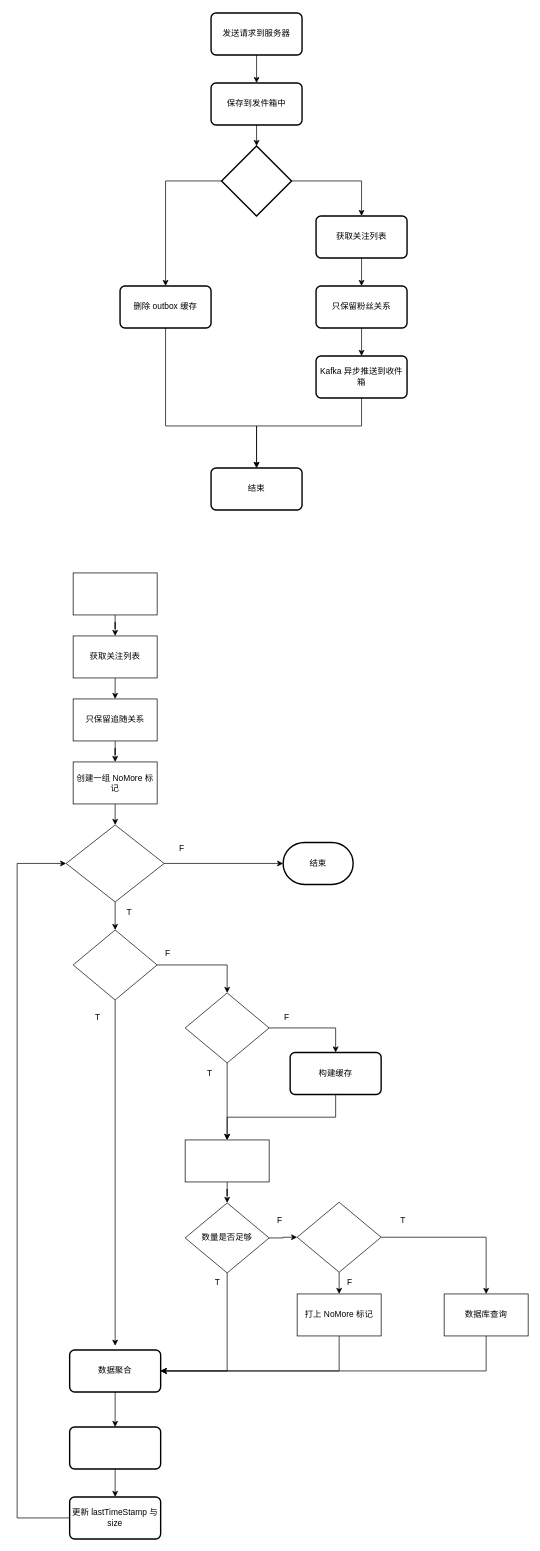
This 540x1551 diagram has some shape labels left out. The centre of each missing label's shape, as x and y in pixels:
"剔除掉具有删除标记的帖子" goes at (x=115, y=1447).
"客户端传入 size 与 lastTimeStamp" goes at (x=114, y=593).
"按 lastTimeStamp 查询 size 个" goes at (x=226, y=1160).
"是否为大 V" goes at (x=256, y=180).
"是否有 NoMore 标记" goes at (x=114, y=964).
"是否获取到足够数量的帖子，或者是否有帖子可读" goes at (x=114, y=863).
"是否还有更多帖子可读" goes at (x=338, y=1237).
"缓存是否存在" goes at (x=226, y=1027).
